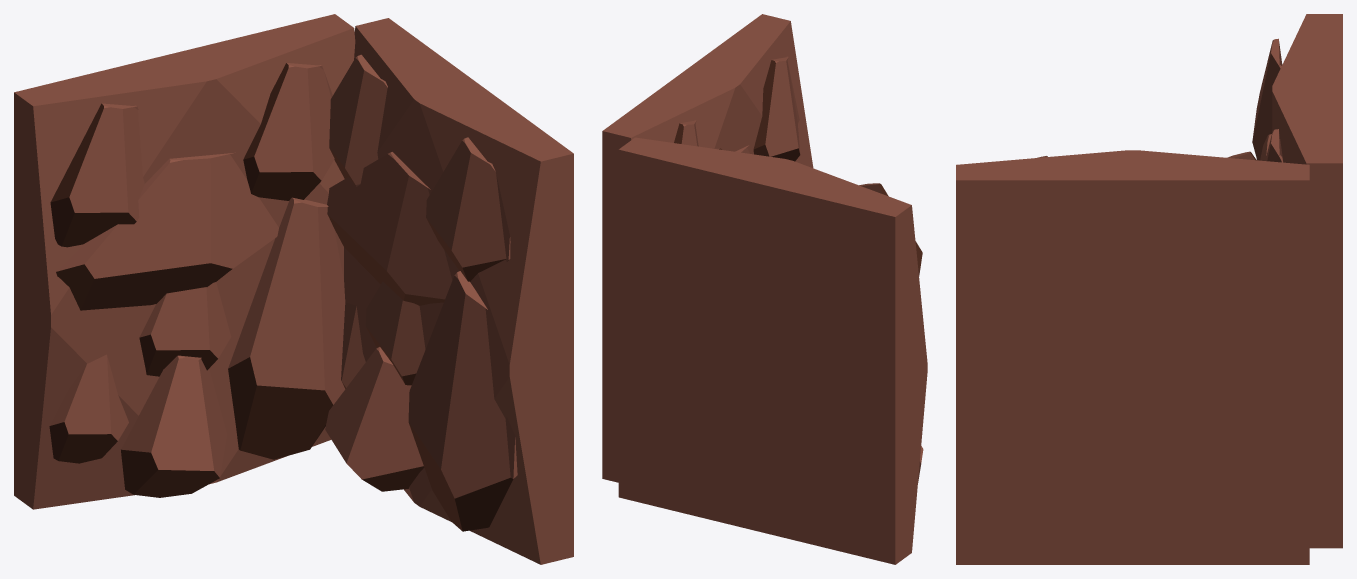
Rendered from esquina1.fbx.
The picture shows the model from 3 angles, left to right: view 1: azimuth 30°, elevation 25°; view 2: azimuth 150°, elevation 25°; view 3: azimuth 270°, elevation 25°; orthographic projection. The views are drawn at different scales.
Parts seen in each view (by area): view 1: Cube.003; view 2: Cube.003; view 3: Cube.003.
Part boxes in pixels (x1,y1,x2,y2): Cube.003: (14,14,573,564); Cube.003: (602,14,927,564); Cube.003: (956,14,1342,564).
Bounding box in the file's own units: 278 × 300 × 273.
